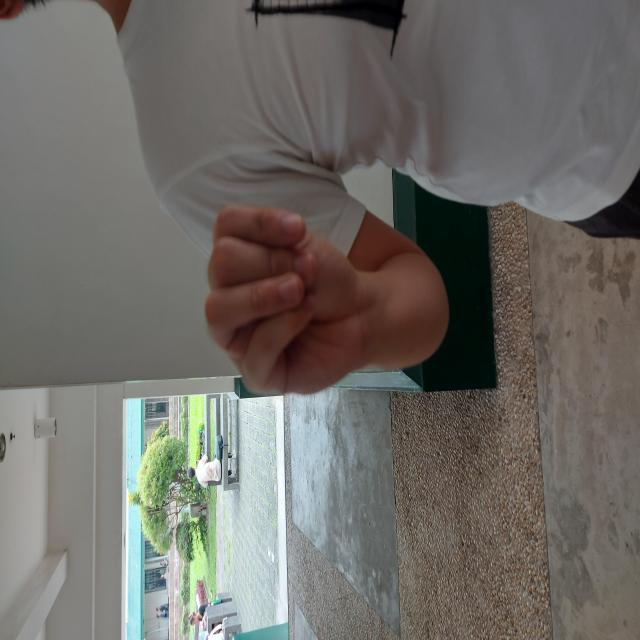M: (242, 203, 439, 367)
